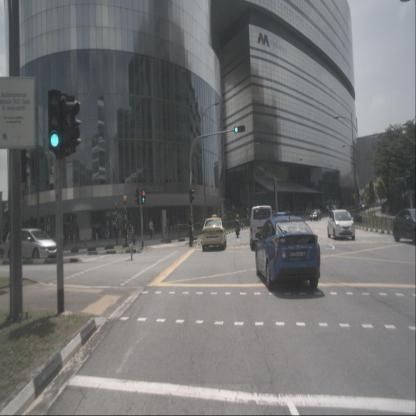human-pedestrian-adult: (127, 220, 136, 261), (187, 215, 194, 248), (148, 218, 154, 238)
vehicle-car: (256, 212, 320, 290), (5, 228, 58, 262), (249, 205, 273, 251), (202, 214, 227, 251), (327, 209, 356, 240), (392, 208, 416, 245), (310, 208, 321, 221), (328, 204, 337, 214), (305, 207, 314, 214), (323, 205, 329, 214)
vehicle-motorcycle: (235, 213, 240, 238)
